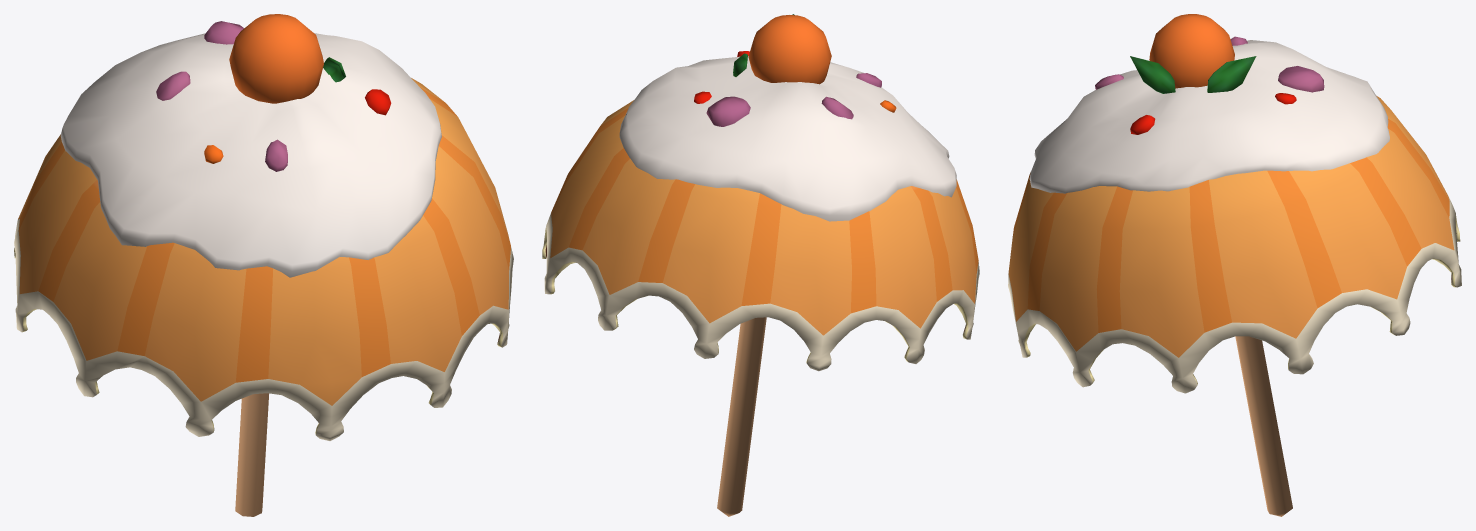
File: Dol_OB_Umbrella01.fbx
3 views of the same model, side by side, from view 1: azimuth 30°, elevation 25°; view 2: azimuth 150°, elevation 25°; view 3: azimuth 270°, elevation 25° (orthographic). The views are drawn at different scales.
Parts seen in each view (by area): view 1: Doll_OB_Umbrella01; view 2: Doll_OB_Umbrella01; view 3: Doll_OB_Umbrella01.
Part boxes in pixels (bbox=[...]): Doll_OB_Umbrella01: bbox=[14, 14, 513, 516]; Doll_OB_Umbrella01: bbox=[542, 14, 979, 516]; Doll_OB_Umbrella01: bbox=[1008, 14, 1461, 516].
Bounding box in the file's own units: 14.53 × 17.31 × 14.53.
